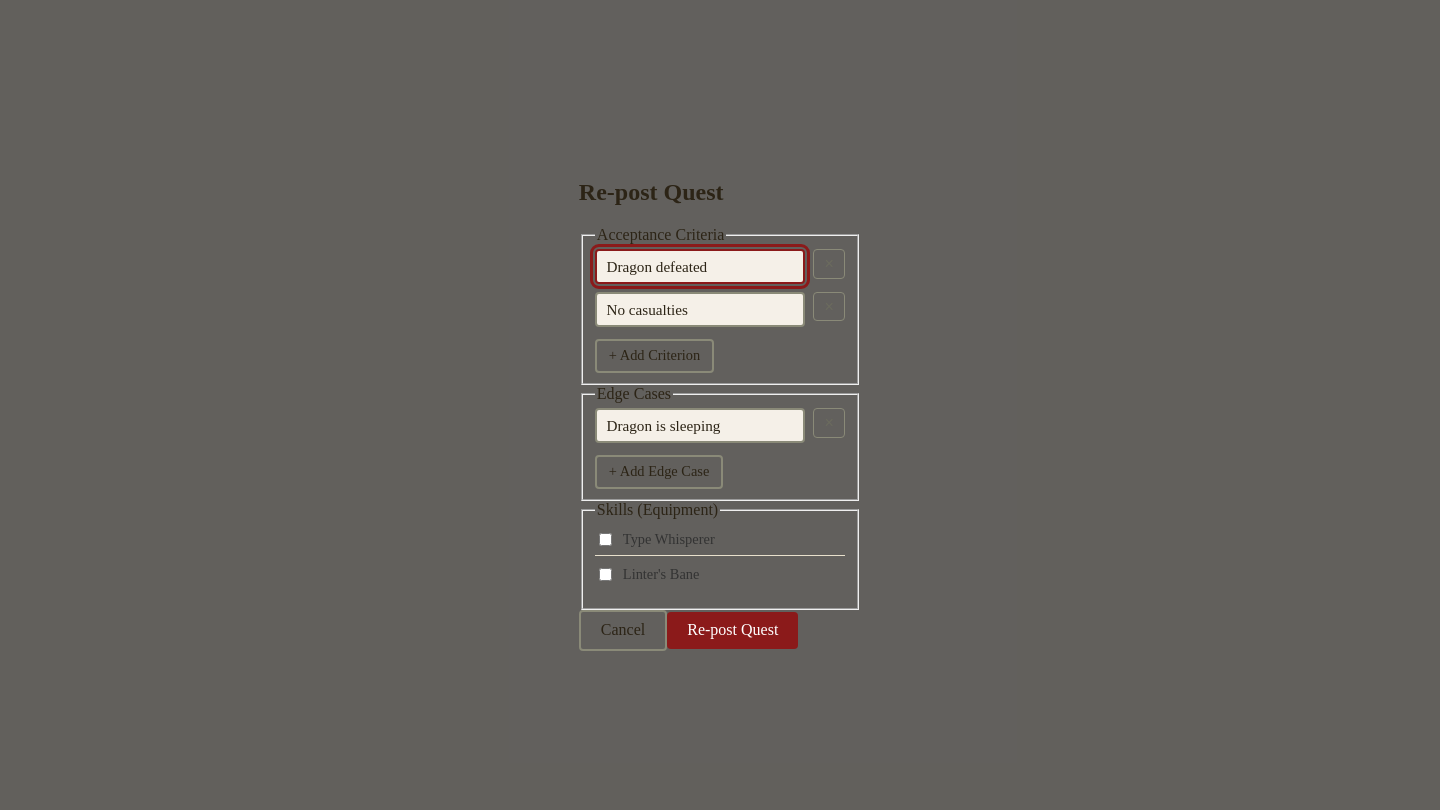
Test case: RepostDialog › shows loading state while submitting
Click the button "Re-post Quest".
click(733, 630)  # box [667,612,798,649]
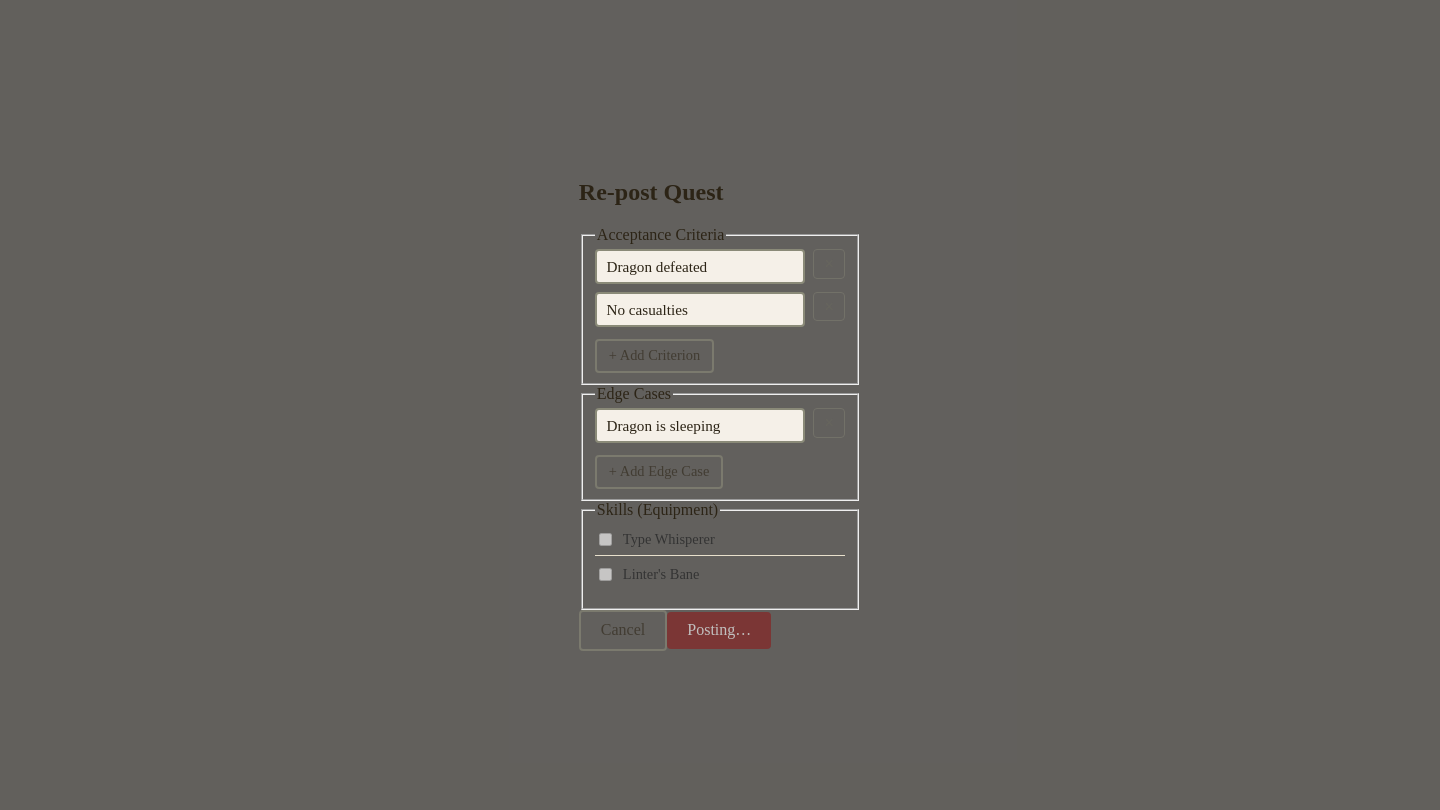
Check: the button "Posting…" is disabled, box [667,612,771,649]
